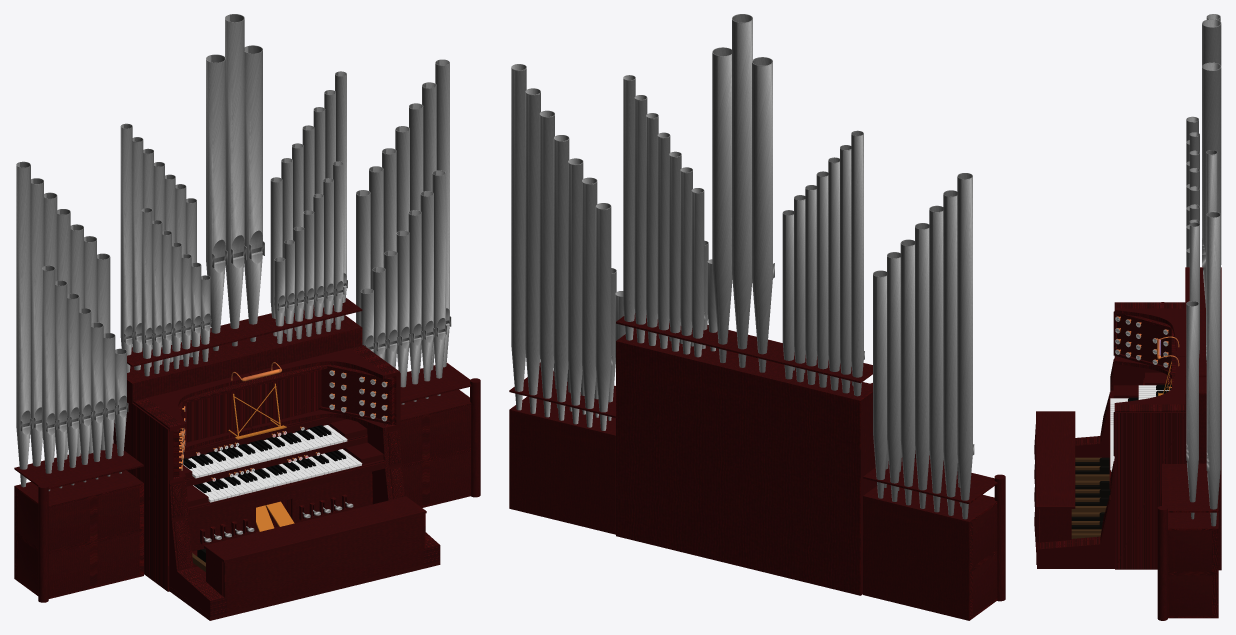
Rendered from Orchestral Pipe Organ.obj.
The picture shows the model from 3 angles, left to right: view 1: azimuth 30°, elevation 25°; view 2: azimuth 150°, elevation 25°; view 3: azimuth 270°, elevation 25°; orthographic projection. The views are drawn at different scales.
Parts seen in each view (by area): view 1: Pipes, Frame, white_keys, Black_Keys, Great_Control_Pedal; view 2: Pipes, Frame; view 3: Frame, Pipes, Normal_Pedals, Sharp_Flat_Pedals, white_keys, Left_Organ_labels.
Boxes of the visible parts, box(x1,y1,x2,y2) form: Pipes: box(16, 14, 451, 491); Frame: box(14, 298, 480, 620); white_keys: box(181, 425, 362, 502); Black_Keys: box(181, 425, 346, 492); Great_Control_Pedal: box(256, 501, 294, 531); Pipes: box(511, 14, 974, 519); Frame: box(509, 313, 1005, 620); Frame: box(1034, 267, 1221, 620); Pipes: box(1186, 14, 1221, 526); Normal_Pedals: box(1071, 457, 1109, 538); Sharp_Flat_Pedals: box(1071, 457, 1110, 529); white_keys: box(1110, 385, 1169, 471); Left_Organ_labels: box(1115, 316, 1167, 367).
Bounding box in the file's own units: 205 × 227 × 78.07.
Materials: 12 (6 with a texture image).
